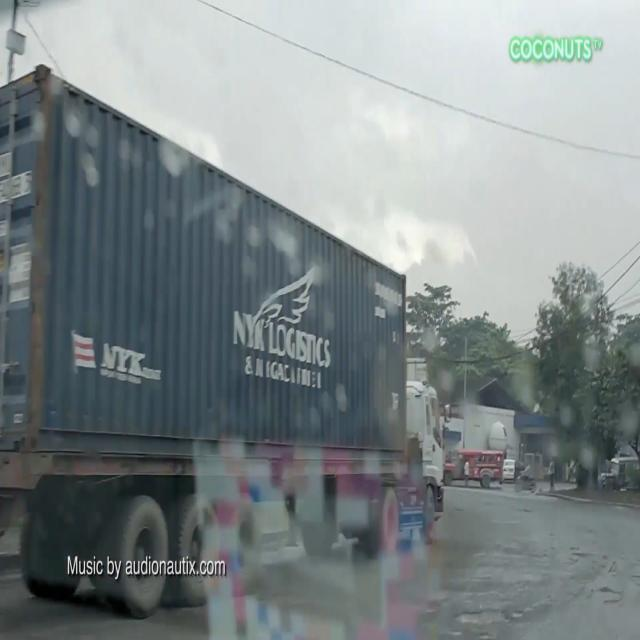jeepney: (444, 448, 504, 490)
truck: (0, 64, 446, 622)
